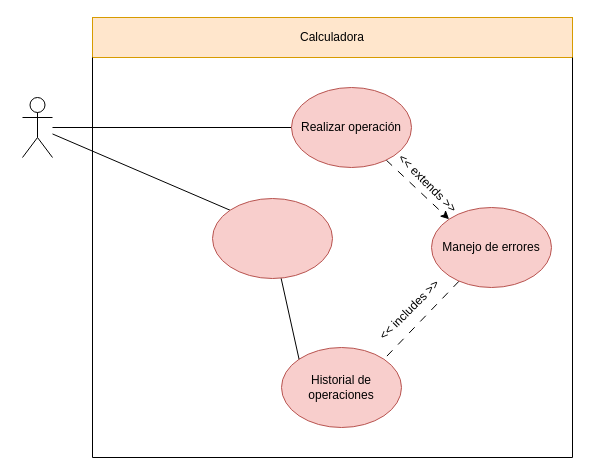
This 591x476 diagram has some shape labels left out. The centre of each missing label's shape, as x and y in pixels:
"Mostrar historial" belongs at (272,238).
"Usuario" belongs at (37,127).
